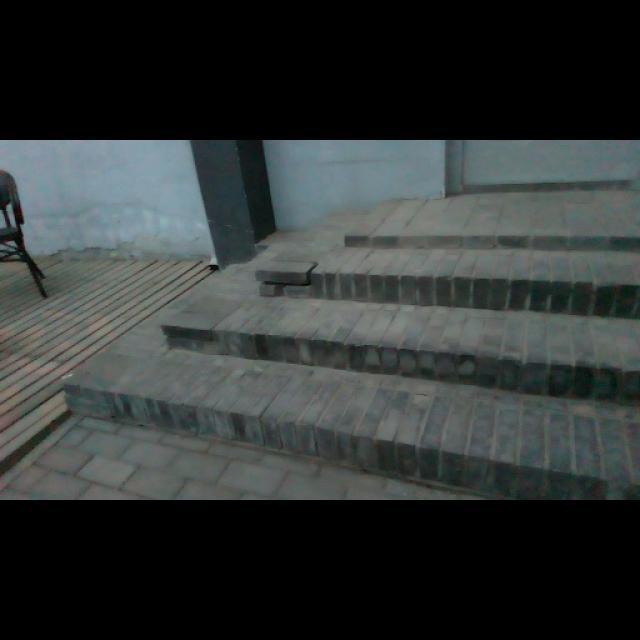stair: (108, 202, 640, 464)
